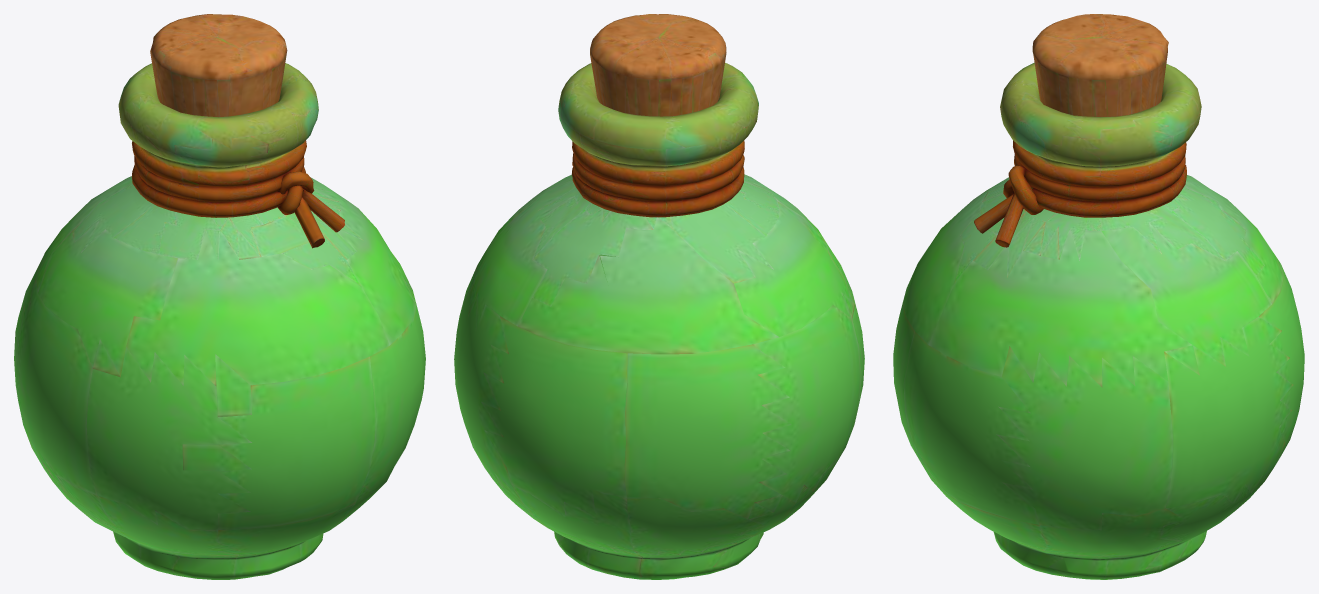
Rendered from item04_green_potion.glb.
3 views of the same model, side by side, from view 1: azimuth 30°, elevation 25°; view 2: azimuth 150°, elevation 25°; view 3: azimuth 270°, elevation 25° (orthographic).
Parts seen in each view (by area): view 1: geometry_0; view 2: geometry_0; view 3: geometry_0.
Boxes of the visible parts, x1=… form: geometry_0: x1=14, y1=14, x2=425, y2=579; geometry_0: x1=454, y1=14, x2=864, y2=579; geometry_0: x1=893, y1=14, x2=1304, y2=579.
Size of the model in its own units: 0.7056 by 0.9512 by 0.7056.
Materials: 1 (1 with a texture image).
